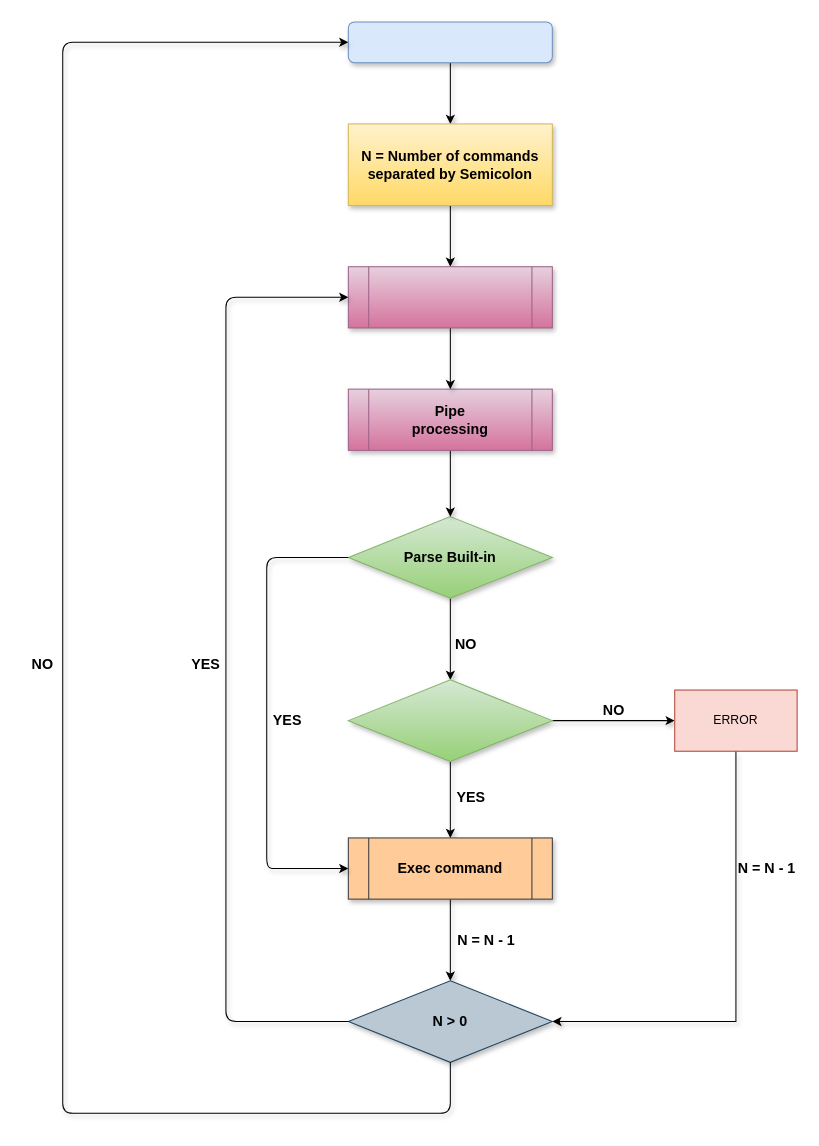
Image size: 819x1146. Some labels were removed from this diagram. The centre of each missing label's shape, as x and y in pixels:
"Enter Command...." goes at [450,43].
"Parse $PATH" goes at [450,722].
"Redirection processing" goes at [450,298].
